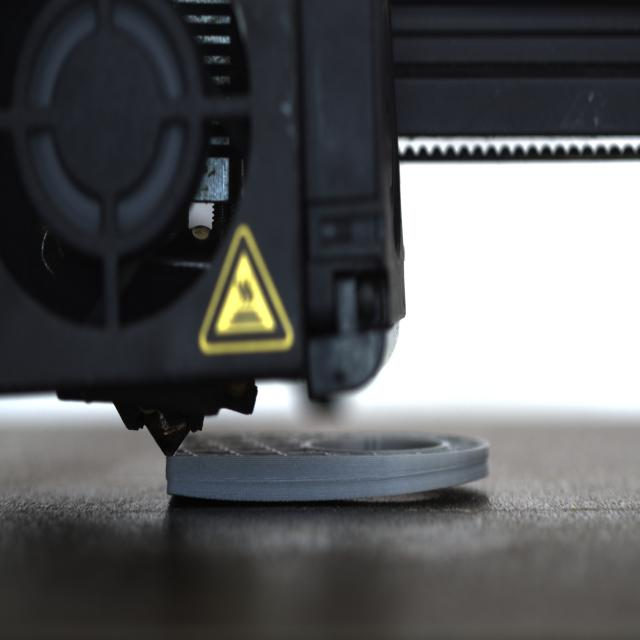Warping: (404, 459, 498, 502)
